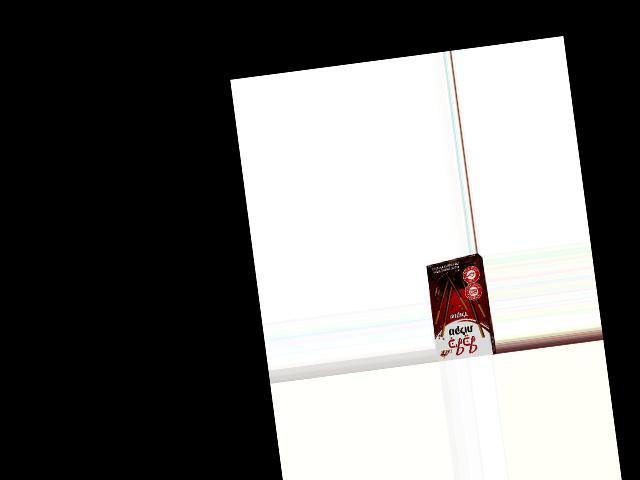chocolate: (424, 259, 495, 361)
